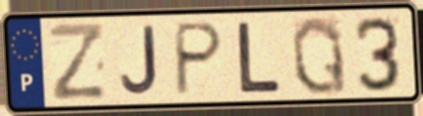3: (353, 13, 405, 93)
J: (118, 22, 161, 97)
L: (235, 19, 283, 95)
P: (172, 19, 227, 98)
Q: (289, 13, 350, 98)
Z: (47, 21, 109, 104)
